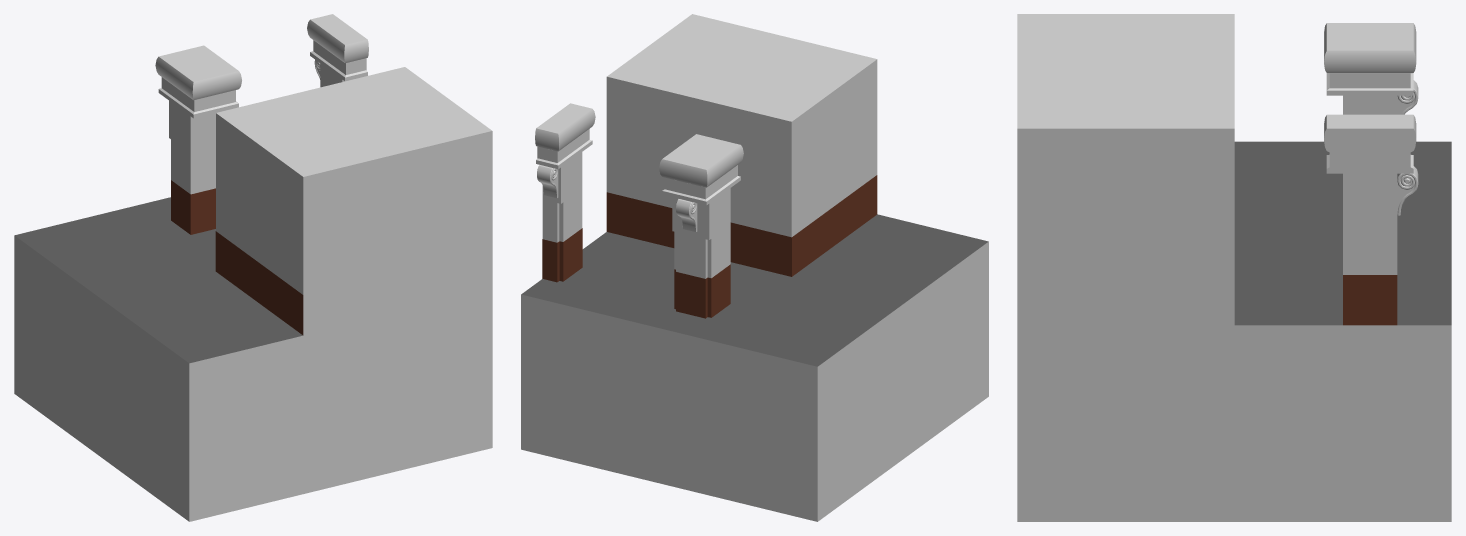
The model's file is House_Base_Side_Back_F_cvx_var0.fbx.
3 views of the same model, side by side, from view 1: azimuth 30°, elevation 25°; view 2: azimuth 150°, elevation 25°; view 3: azimuth 270°, elevation 25° (orthographic). The views are drawn at different scales.
Visible parts, largest first — view 1: House_Base_Side_Back_F_cvx_MESH; view 2: House_Base_Side_Back_F_cvx_MESH; view 3: House_Base_Side_Back_F_cvx_MESH.
Part boxes in pixels (x1,y1,x2,y2): House_Base_Side_Back_F_cvx_MESH: (14, 14, 492, 521); House_Base_Side_Back_F_cvx_MESH: (521, 14, 988, 521); House_Base_Side_Back_F_cvx_MESH: (1017, 14, 1451, 521).
Bounding box in the file's own units: 4 × 4 × 4.
